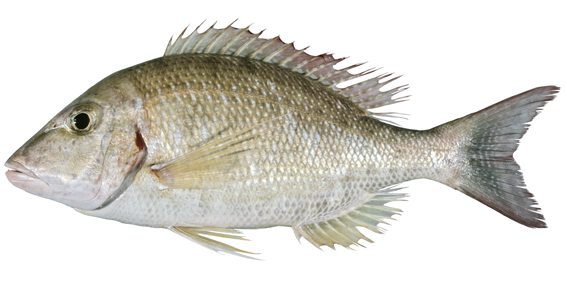fish: (4, 19, 561, 263)
